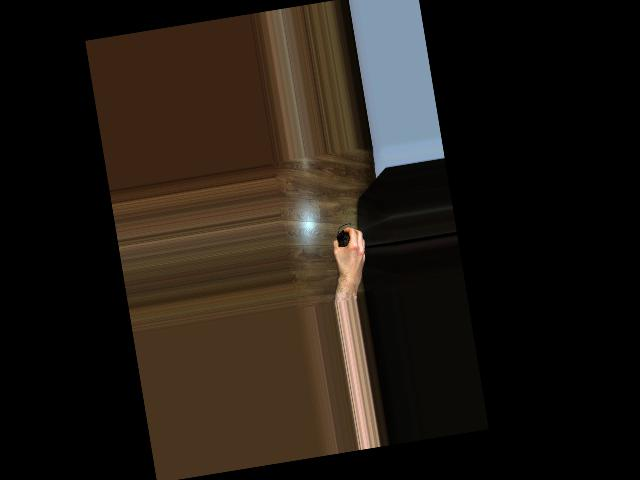beet: (334, 221, 354, 247)
